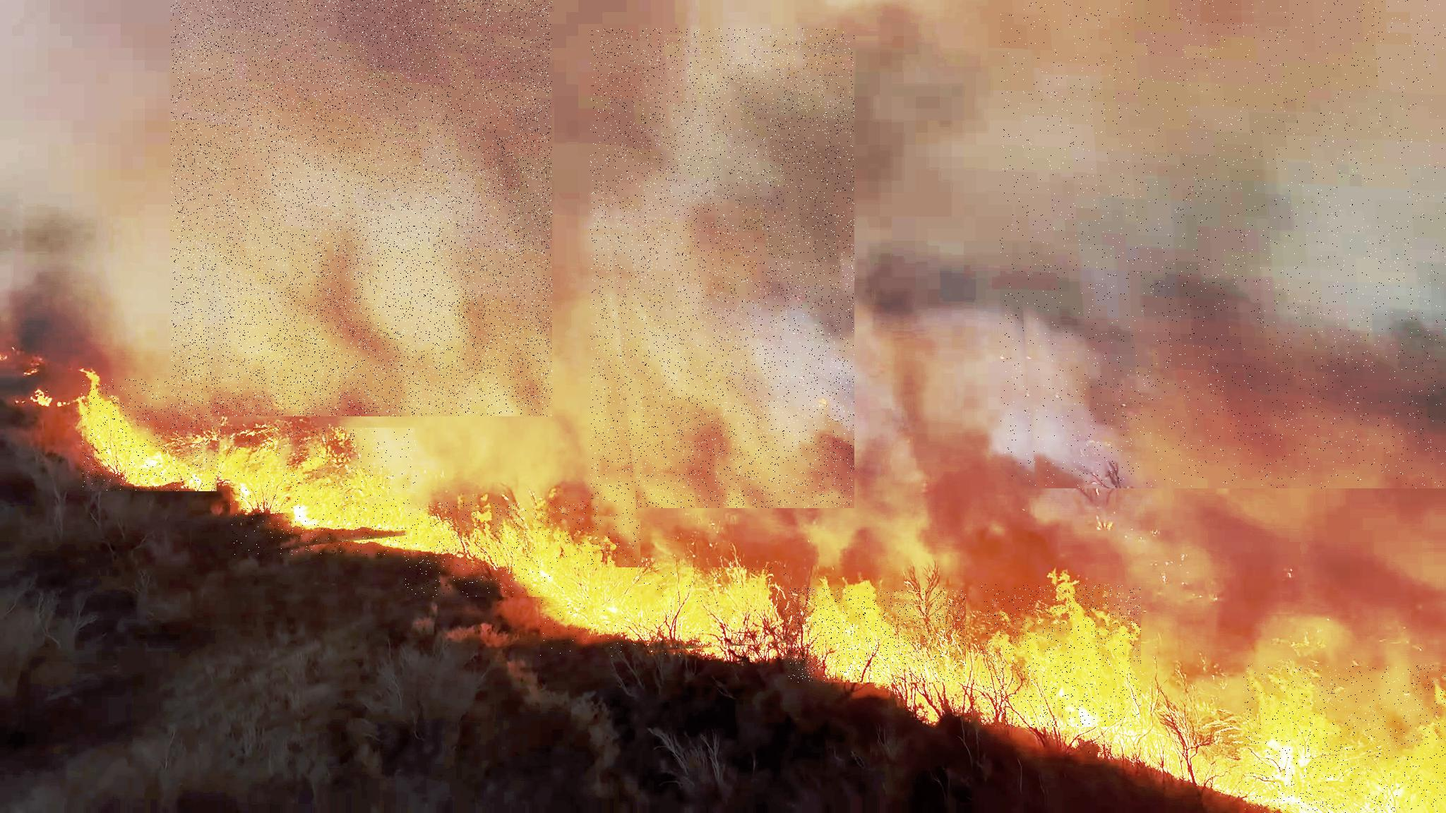fire: (1243, 665, 1446, 813), (230, 428, 417, 555), (540, 567, 793, 658), (981, 584, 1141, 727), (403, 501, 640, 597), (788, 588, 966, 682), (82, 378, 223, 491)
smoke: (1000, 0, 1446, 488), (171, 0, 552, 416), (590, 28, 854, 508)
